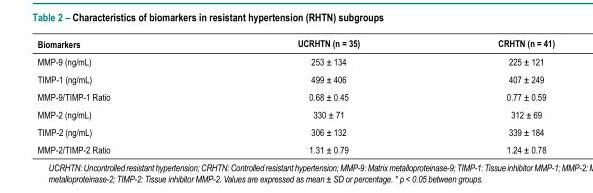table: (36, 37, 553, 154)
table column: (203, 37, 428, 154), (36, 37, 203, 154), (428, 37, 553, 154)
table column header: (36, 37, 553, 52)
table row: (36, 69, 553, 87), (36, 87, 553, 105), (36, 122, 553, 140), (36, 52, 553, 69), (36, 105, 553, 122), (36, 37, 553, 52), (36, 140, 553, 154)
